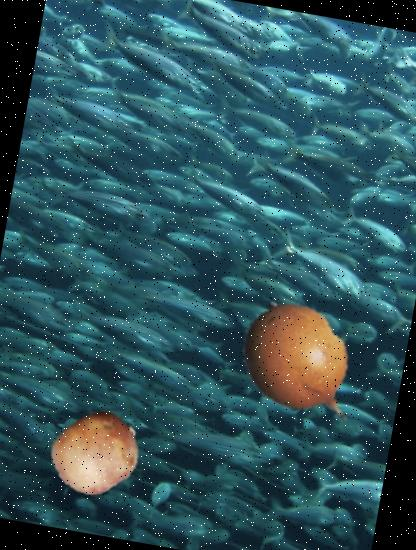Granadilla: (222, 285, 384, 447)
Peach: (46, 402, 146, 503)
